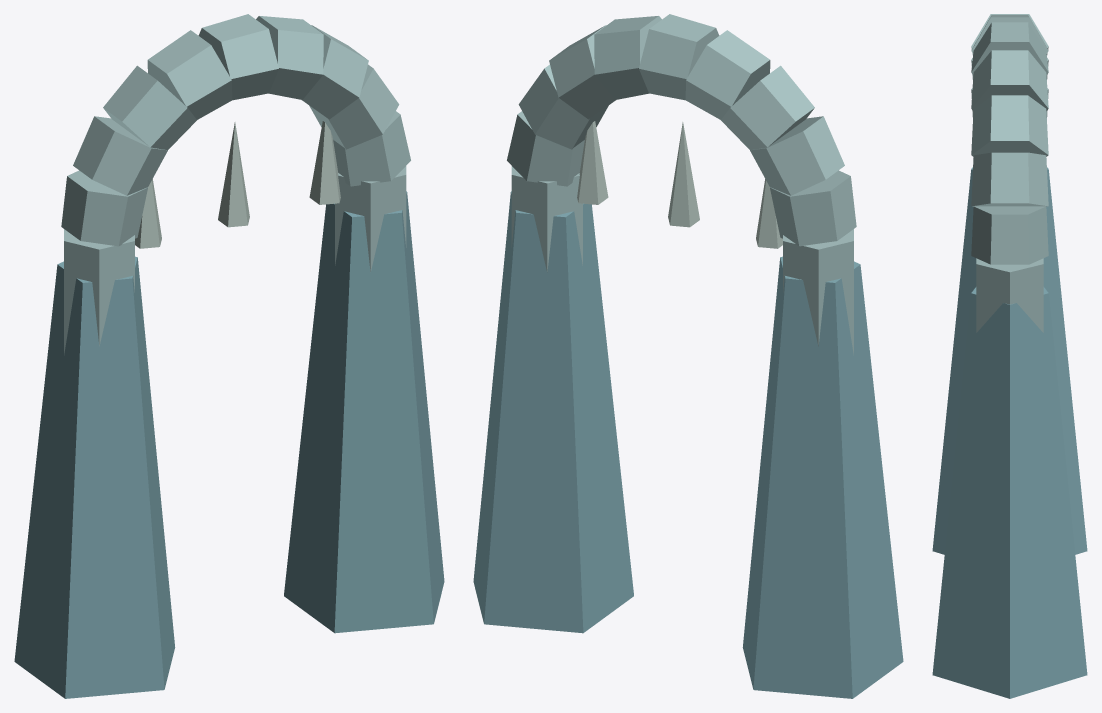
The model's file is map-exclusive-v3__frost_01.glb.
3 renders of one model, left to right at view 1: azimuth 30°, elevation 25°; view 2: azimuth 150°, elevation 25°; view 3: azimuth 270°, elevation 25°, orthographic. The views are drawn at different scales.
Parts seen in each view (by area): view 1: frost_01; view 2: frost_01; view 3: frost_01.
Part boxes in pixels (bbox=[...]): frost_01: bbox=[14, 14, 444, 698]; frost_01: bbox=[473, 14, 903, 698]; frost_01: bbox=[932, 14, 1087, 698].
Bounding box in the file's own units: 2.16 × 3.09 × 0.7608.
